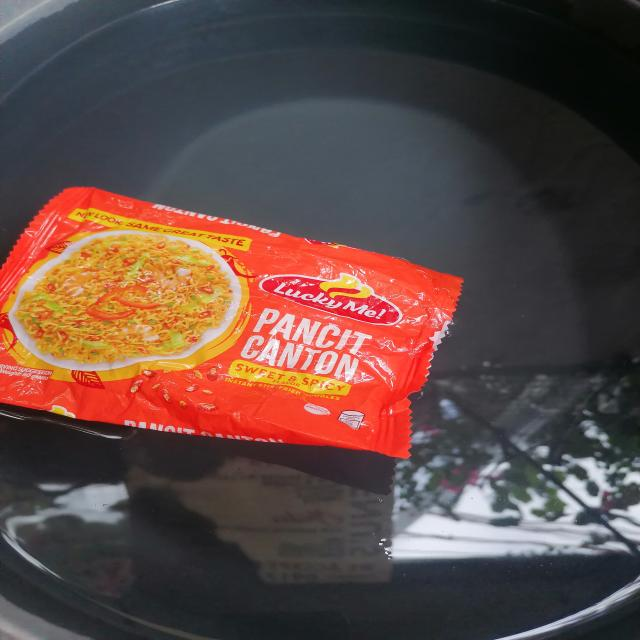Plastic Wrapper: (0, 188, 463, 458)
